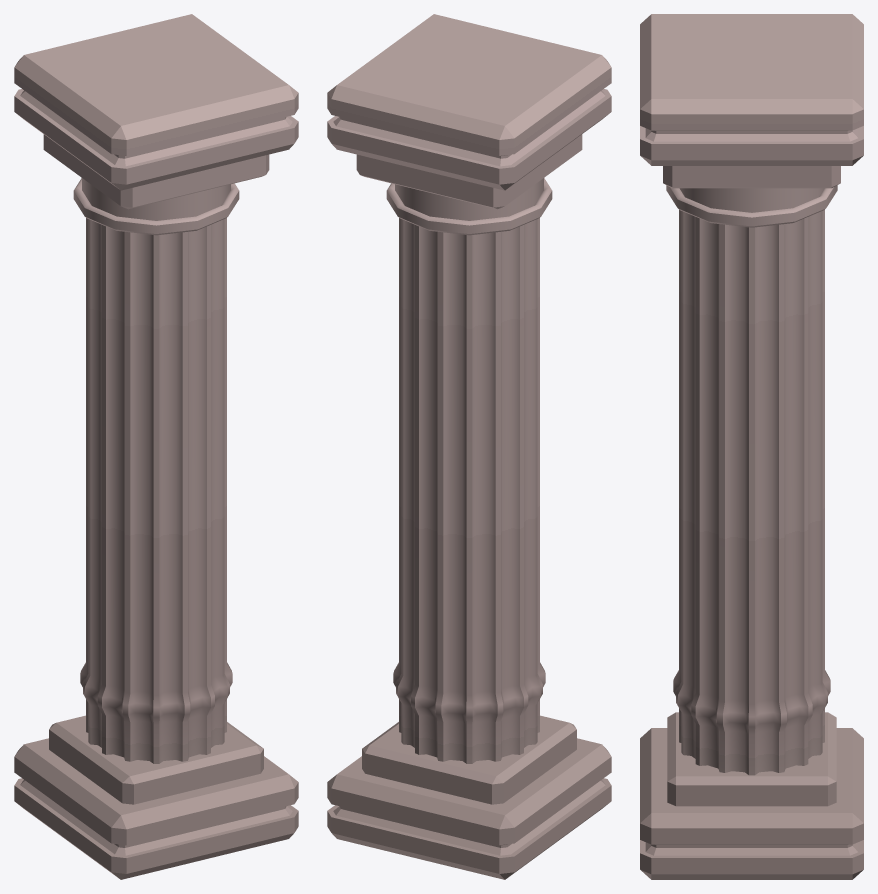
The model's file is SM_Pillar.fbx.
3 renders of one model, left to right at view 1: azimuth 30°, elevation 25°; view 2: azimuth 150°, elevation 25°; view 3: azimuth 270°, elevation 25°, orthographic. The views are drawn at different scales.
Visible parts, largest first — view 1: Pillar; view 2: Pillar; view 3: Pillar.
Boxes of the visible parts, left/top/right/bottom form: Pillar: left=14, top=14, right=298, bottom=879; Pillar: left=327, top=14, right=611, bottom=879; Pillar: left=640, top=14, right=863, bottom=879.
Size of the model in its own units: 155 by 595 by 155.
1 material, 1 textured.
